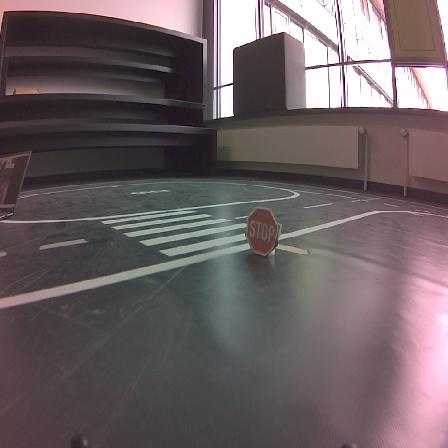STOP: (246, 208, 280, 255)
